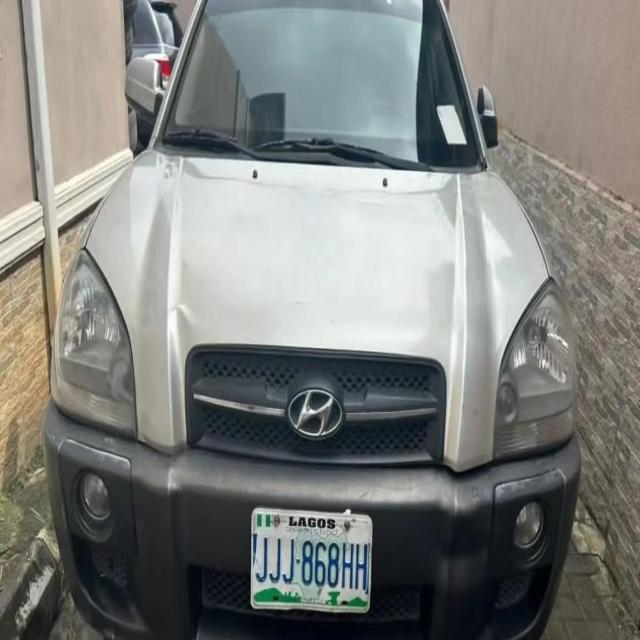Nigerian License Plate - vdataset benjamin-daria: (248, 508, 374, 620)
